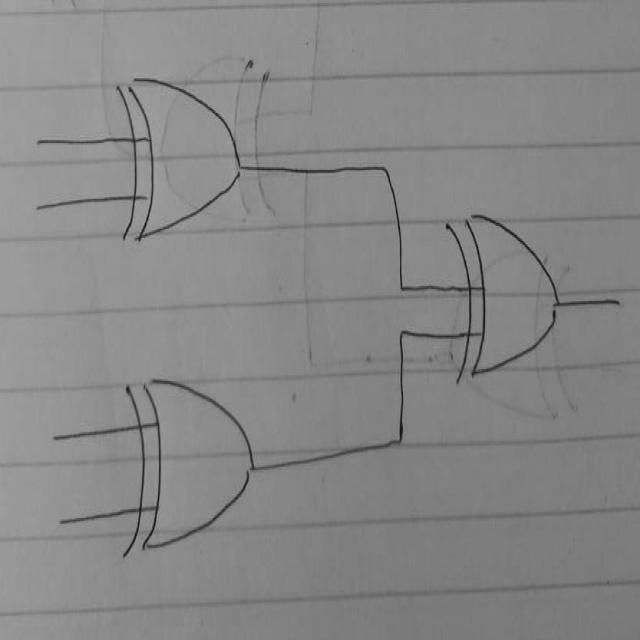XOR: (112, 360, 269, 576), (441, 183, 570, 405), (113, 64, 259, 256)
